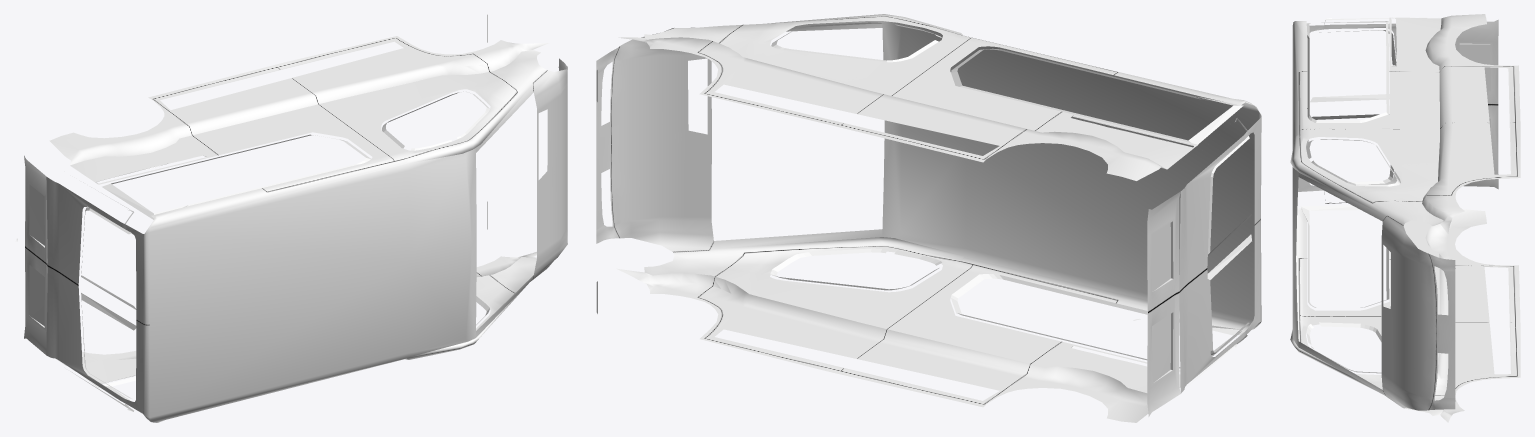
The model's file is EuropeanVan_Body.obj.
3 renders of one model, left to right at view 1: azimuth 30°, elevation 25°; view 2: azimuth 150°, elevation 25°; view 3: azimuth 270°, elevation 25°, orthographic. The views are drawn at different scales.
Visible parts, largest first — view 1: Body; view 2: Body; view 3: Body.
Part boxes in pixels (<box>): Body: <box>16,14,567,422</box>; Body: <box>596,14,1261,422</box>; Body: <box>1290,14,1520,422</box>.
Bounding box in the file's own units: 4.65 × 1.88 × 1.95.
Materials: 1 (1 with a texture image).
